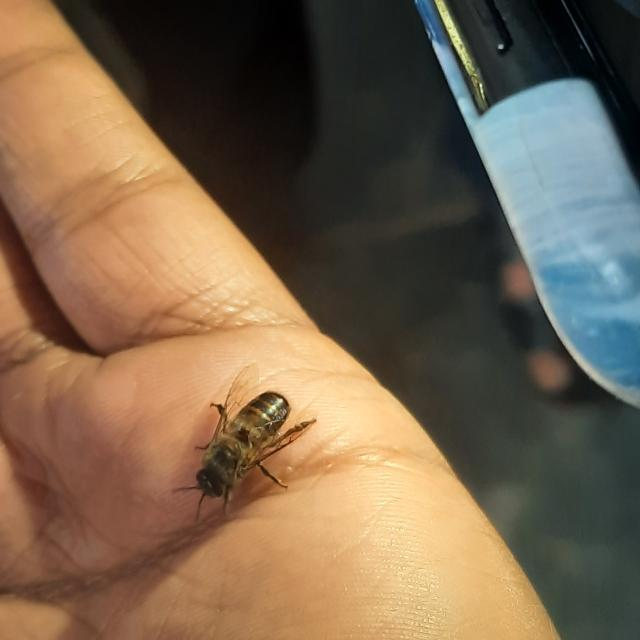honeybee: (182, 380, 312, 521)
